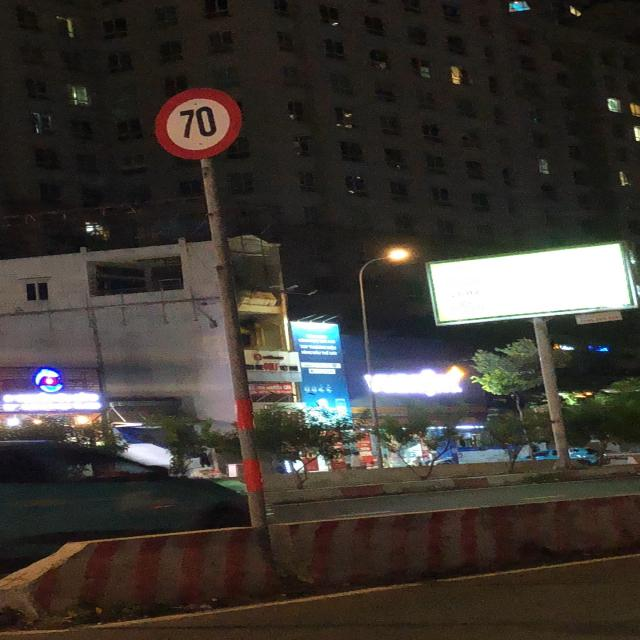Bien bao toc do toi da cho phep: (145, 84, 251, 161)
